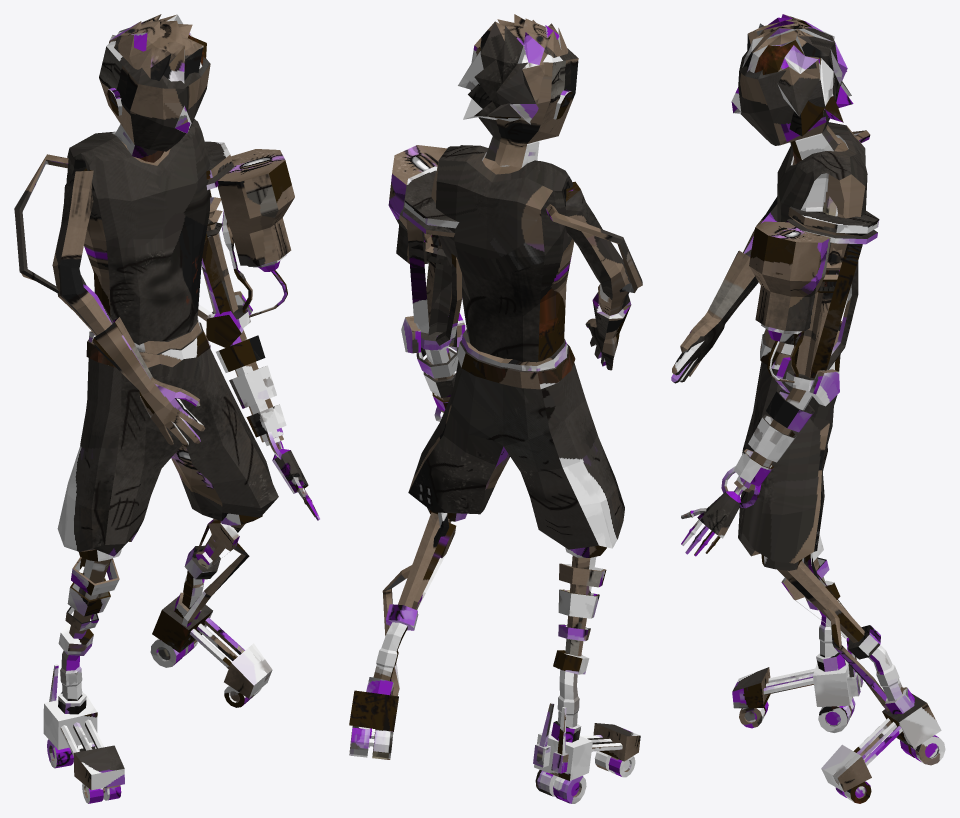
Rendered from CyborgFINALAnimation_000173.obj.
The picture shows the model from 3 angles, left to right: view 1: azimuth 30°, elevation 25°; view 2: azimuth 150°, elevation 25°; view 3: azimuth 270°, elevation 25°; orthographic projection.
Visible parts, largest first — view 1: CyborgMesh_Cube.002; view 2: CyborgMesh_Cube.002; view 3: CyborgMesh_Cube.002.
Part boxes in pixels (x1,y1,x2,y2): CyborgMesh_Cube.002: (14, 14, 319, 803); CyborgMesh_Cube.002: (349, 14, 642, 803); CyborgMesh_Cube.002: (671, 14, 945, 803).
Bounding box in the file's own units: 3.62 × 9.67 × 3.26.
